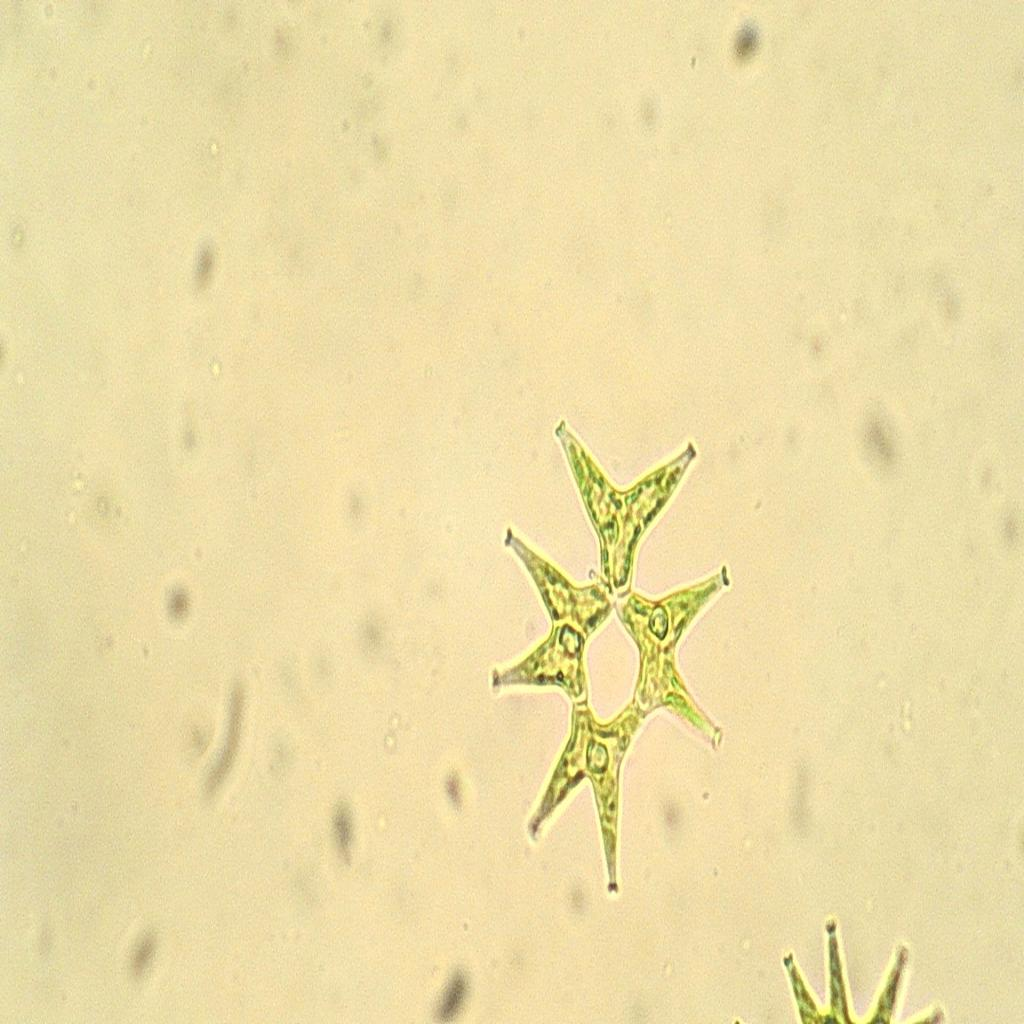Pediastrum_75FI: (479, 360, 734, 918)
